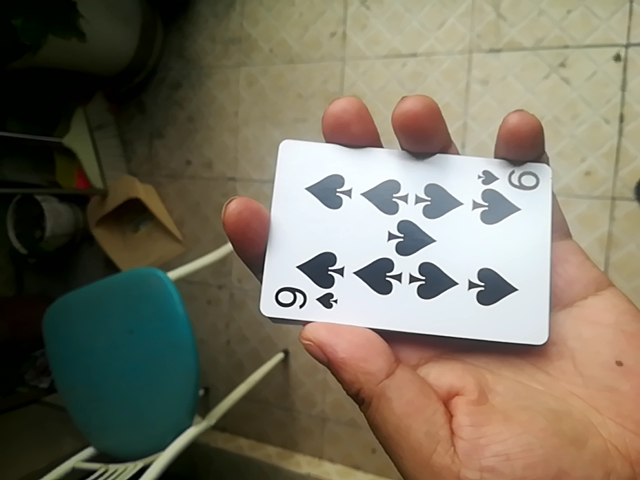ht 9: (255, 145, 561, 343)
